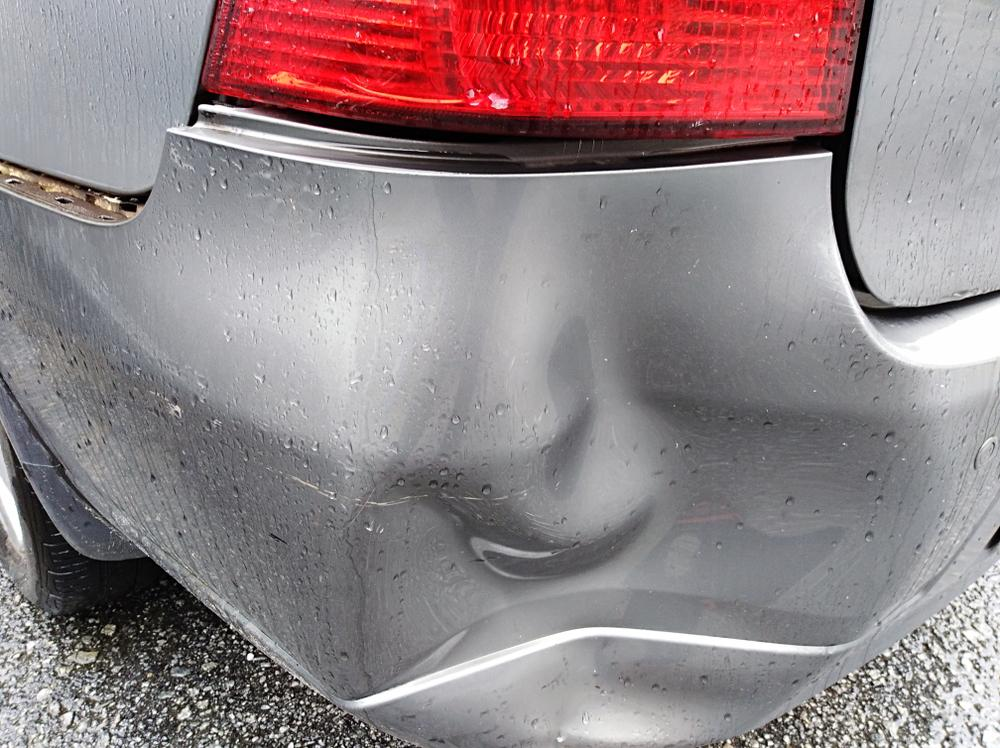dent: (354, 196, 898, 748)
